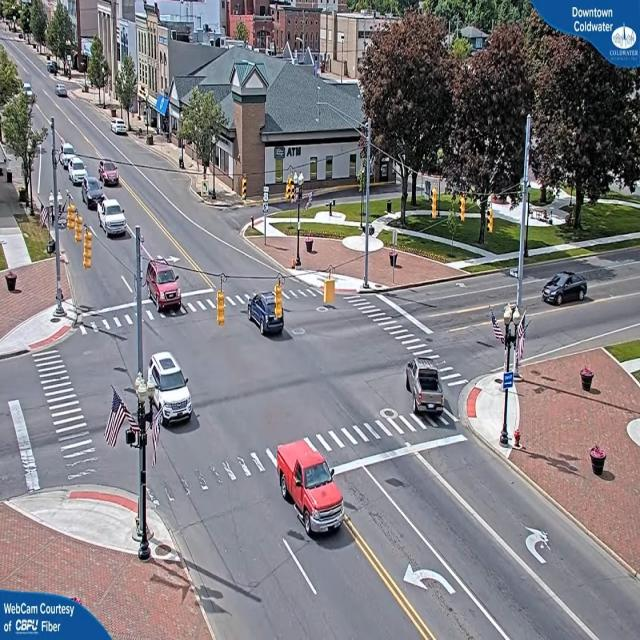car: (276, 440, 346, 539), (148, 354, 195, 428), (406, 356, 448, 413), (146, 261, 184, 318), (541, 274, 587, 308), (249, 292, 284, 335), (100, 201, 131, 239), (99, 159, 120, 187), (113, 120, 128, 136)
